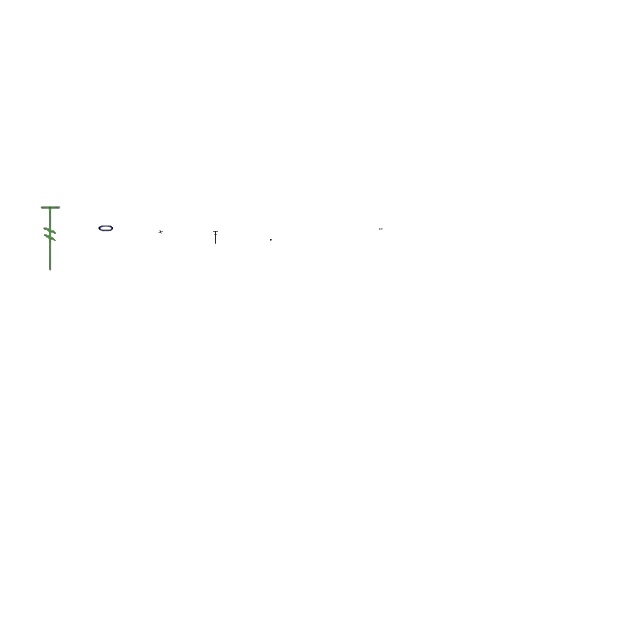chain: (97, 222, 115, 234), (379, 228, 383, 230), (270, 239, 272, 241)
double treble: (214, 232, 218, 244)
enseble_chain: (158, 230, 164, 234)
fan: (38, 204, 64, 274)
